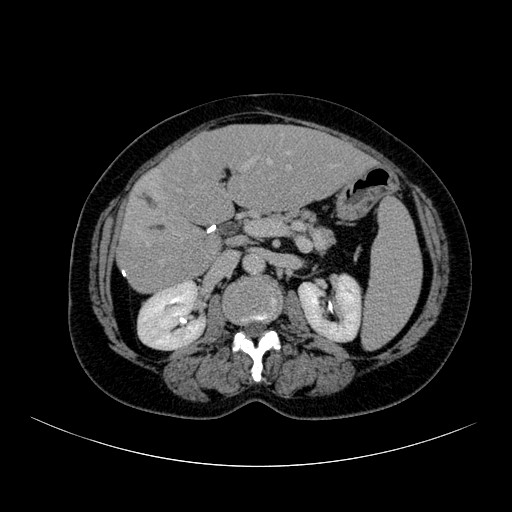clipe: (204, 222, 217, 235)
